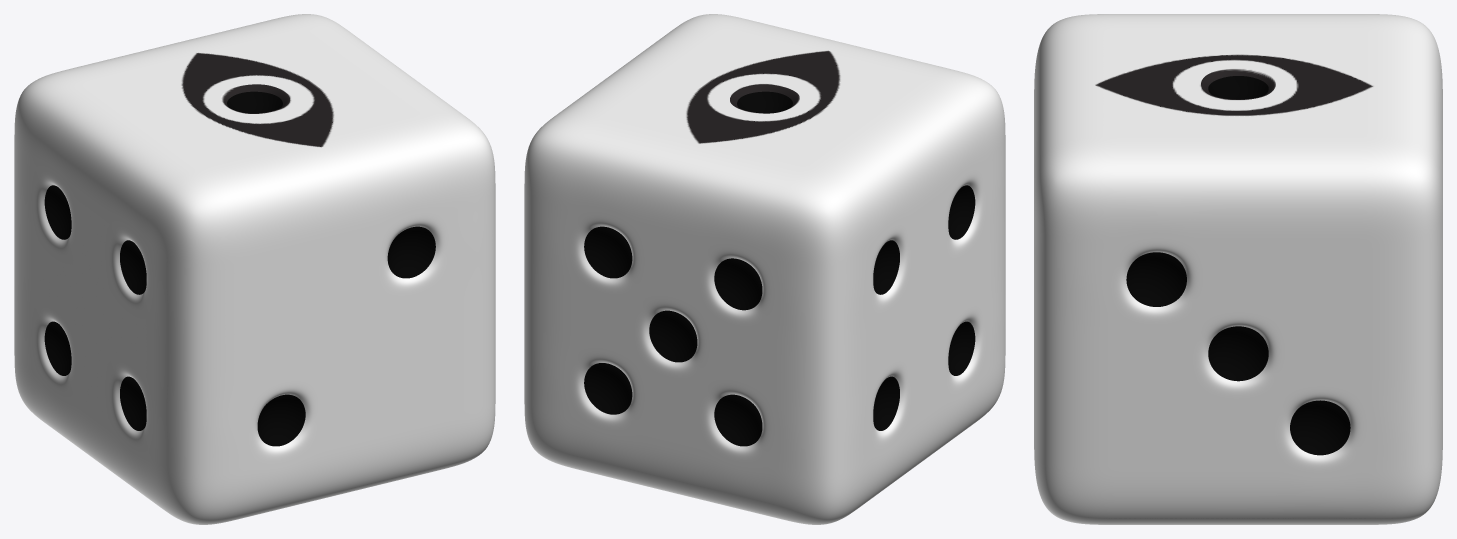
File: Dice 1 Side.fbx
The picture shows the model from 3 angles, left to right: view 1: azimuth 30°, elevation 25°; view 2: azimuth 150°, elevation 25°; view 3: azimuth 270°, elevation 25°; orthographic projection. The views are drawn at different scales.
Visible parts, largest first — view 1: Cube; view 2: Cube; view 3: Cube.
Boxes of the visible parts, x1,y1,x2,y2 form: Cube: [14, 14, 495, 524]; Cube: [524, 14, 1005, 524]; Cube: [1034, 14, 1442, 524].
Bounding box in the file's own units: 100 × 100 × 100.
